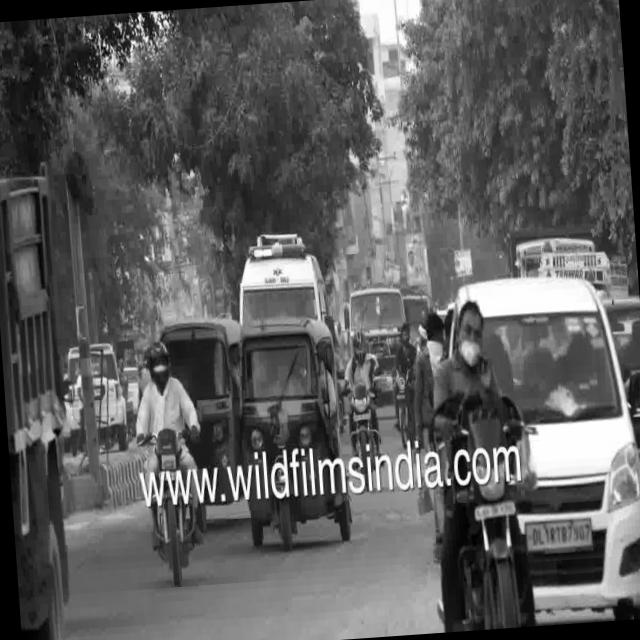ambulance: (231, 210, 349, 328)
